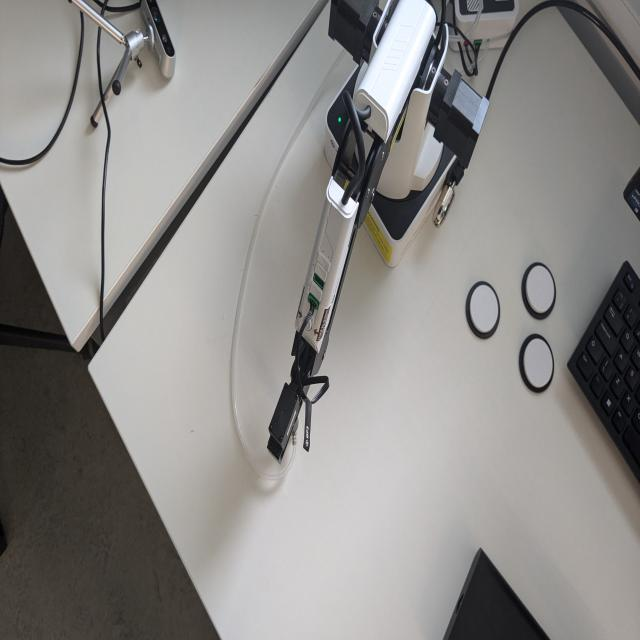Robot-end-effector-HF8z: (264, 378, 302, 467)
